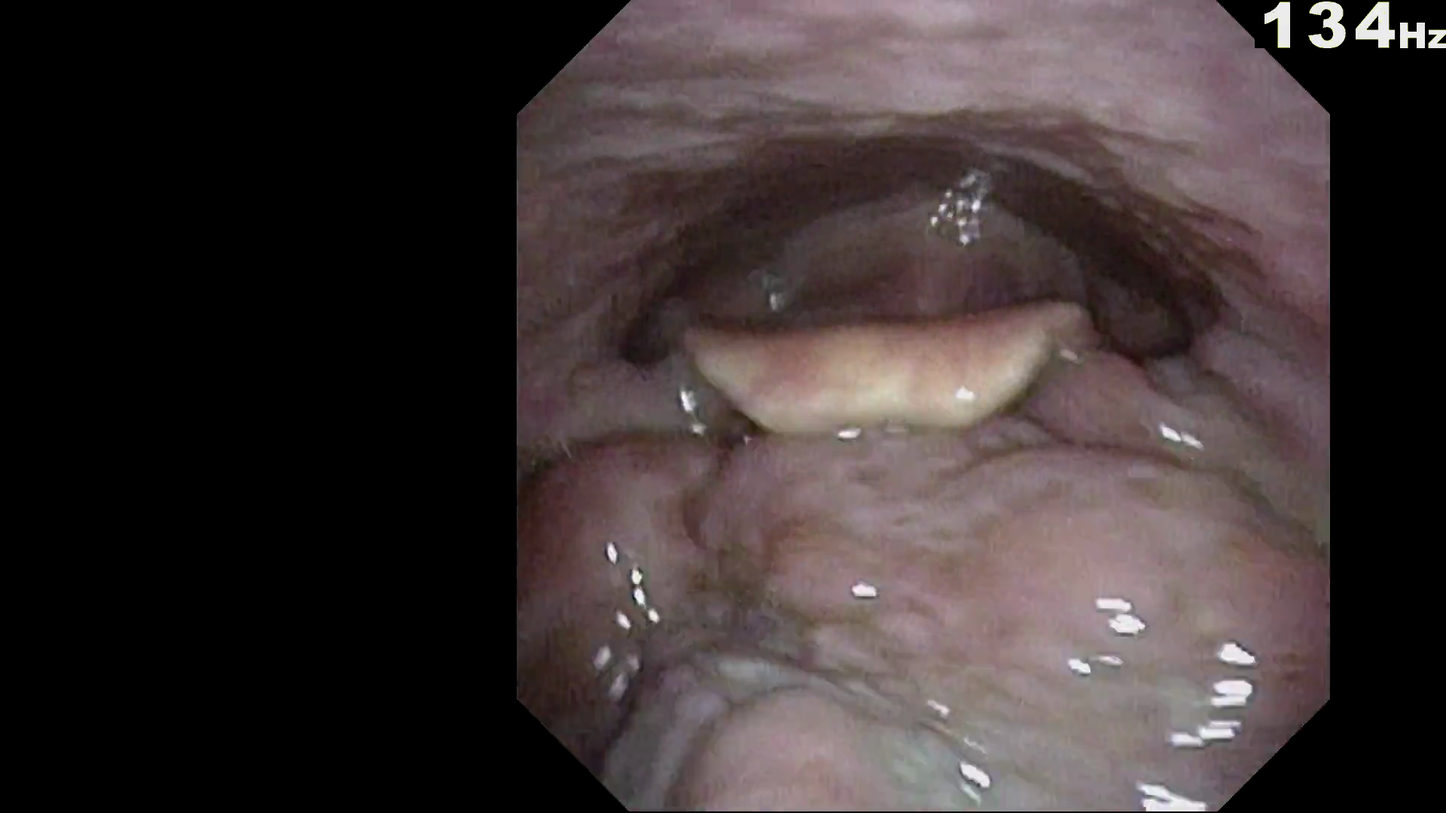epiglottis: (648, 306, 1115, 425)
